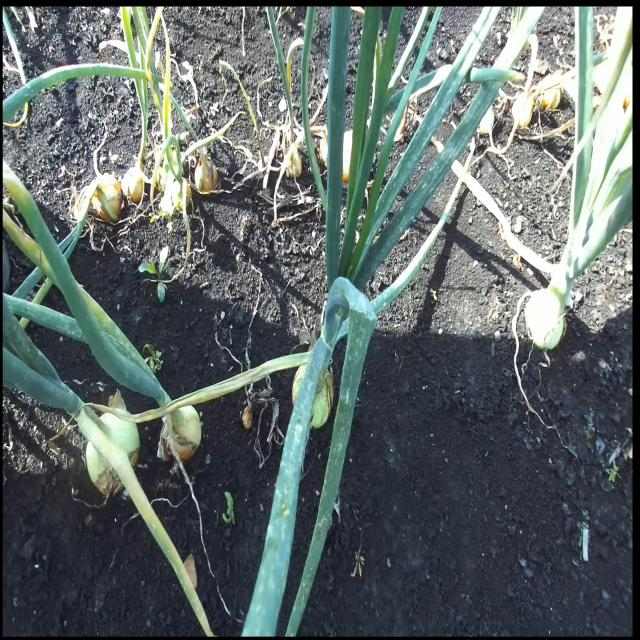onion: (85, 410, 141, 499), (291, 362, 334, 431), (158, 403, 202, 463), (94, 177, 123, 224), (194, 154, 219, 194)
